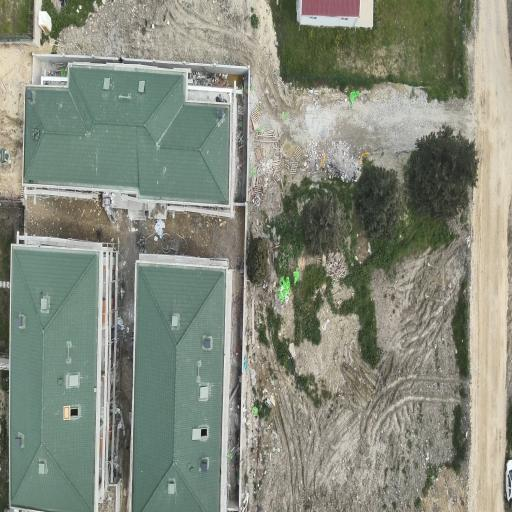car: (505, 459, 512, 501)
